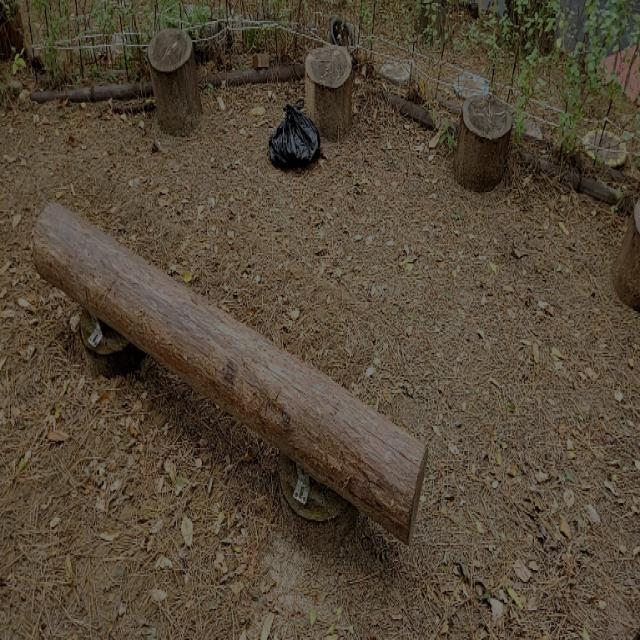Trashbag: (258, 100, 325, 166)
